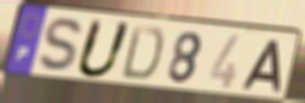4: (207, 32, 242, 91)
8: (166, 30, 203, 86)
A: (239, 38, 283, 95)
D: (119, 23, 166, 83)
S: (35, 16, 87, 76)
U: (73, 17, 134, 81)
